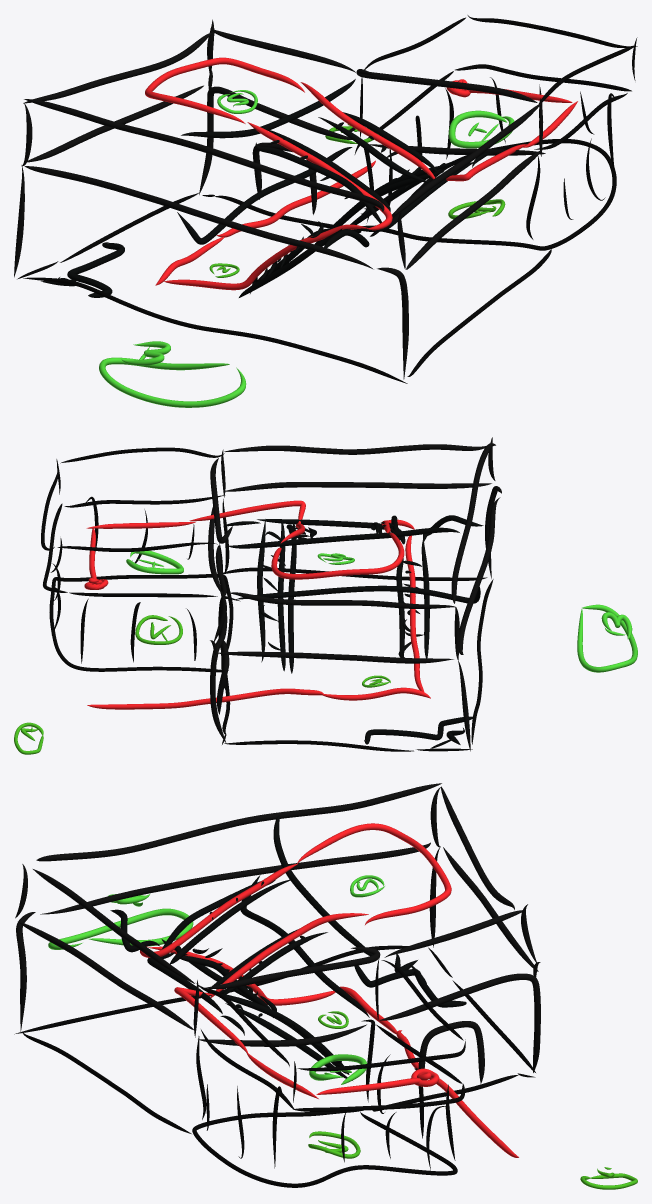
3 renders of one model, top to bottom at view 1: azimuth 30°, elevation 25°; view 2: azimuth 150°, elevation 25°; view 3: azimuth 270°, elevation 25°, orthographic. The views are drawn at different scales.
Visible parts, largest first — view 1: s.0095, s.0089, s.0051, s.0082, s.0077, s.0160, s.0086, s.0158, s.0097, s.0155, s.0093, s.0091 (+26 smaller); view 2: s.0051, s.0093, s.0091, s.0156, s.0146, s.0145, s.0087, s.0097, s.0160, s.0095, s.0082, s.0089 (+23 smaller); view 3: s.0095, s.0051, s.0089, s.0160, s.0086, s.0082, s.0091, s.0155, s.0077, s.0093, s.0159, s.0161 (+23 smaller).
Part boxes in pixels (left/top/right/bottom): s.0095: left=24, top=99, right=384, bottom=211; s.0089: left=24, top=166, right=373, bottom=269; s.0051: left=370, top=139, right=616, bottom=250; s.0082: left=99, top=357, right=246, bottom=407; s.0077: left=23, top=277, right=407, bottom=383; s.0160: left=145, top=57, right=304, bottom=123; s.0086: left=199, top=86, right=351, bottom=194; s.0158: left=164, top=224, right=367, bottom=290; s.0097: left=23, top=32, right=214, bottom=103; s.0155: left=356, top=69, right=537, bottom=102; s.0093: left=394, top=103, right=541, bottom=214; s.0091: left=406, top=149, right=542, bottom=269; s.0051: left=49, top=573, right=233, bottom=672; s.0093: left=224, top=444, right=485, bottom=454; s.0091: left=225, top=482, right=491, bottom=491; s.0156: left=87, top=688, right=324, bottom=709; s.0146: left=236, top=585, right=480, bottom=603; s.0145: left=227, top=527, right=459, bottom=548; s.0087: left=217, top=651, right=453, bottom=663; s.0097: left=229, top=592, right=456, bottom=608; s.0160: left=271, top=532, right=404, bottom=579; s.0095: left=451, top=443, right=495, bottom=603; s.0082: left=577, top=604, right=637, bottom=672; s.0089: left=459, top=497, right=500, bottom=654; s.0095: left=36, top=783, right=441, bottom=861; s.0051: left=192, top=1110, right=457, bottom=1187; s.0089: left=40, top=842, right=430, bottom=914; s.0160: left=297, top=823, right=451, bottom=924; s.0086: left=380, top=973, right=540, bottom=1072; s.0082: left=48, top=908, right=193, bottom=949; s.0091: left=18, top=921, right=193, bottom=1029; s.0155: left=205, top=947, right=380, bottom=989; s.0077: left=14, top=945, right=408, bottom=1034; s.0093: left=33, top=869, right=194, bottom=983; s.0159: left=140, top=863, right=297, bottom=957; s.0161: left=210, top=913, right=368, bottom=997.
Size of the model in its own units: 171 by 154 by 57.45.
